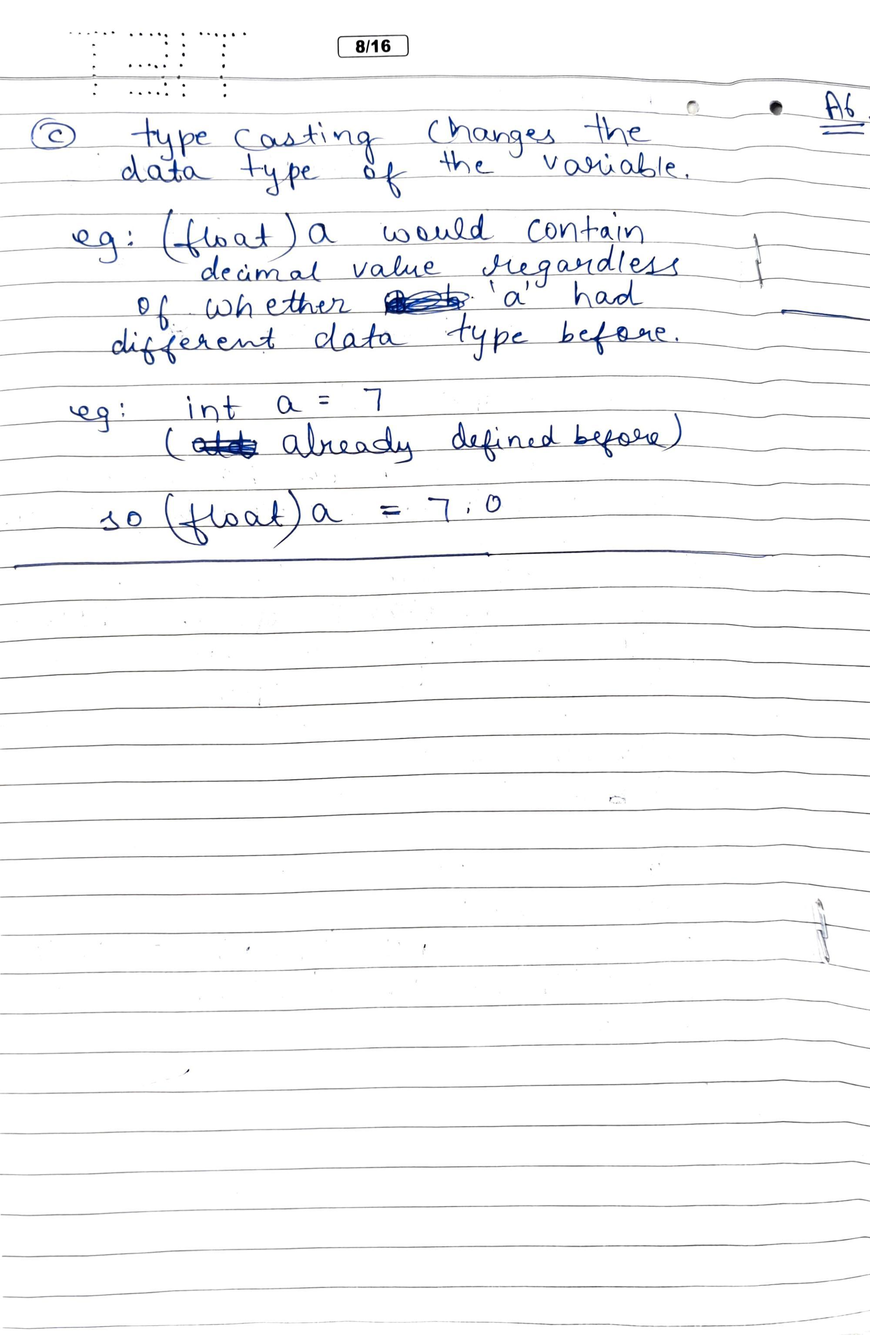cuttings: (383, 286, 473, 318), (191, 428, 260, 460)
